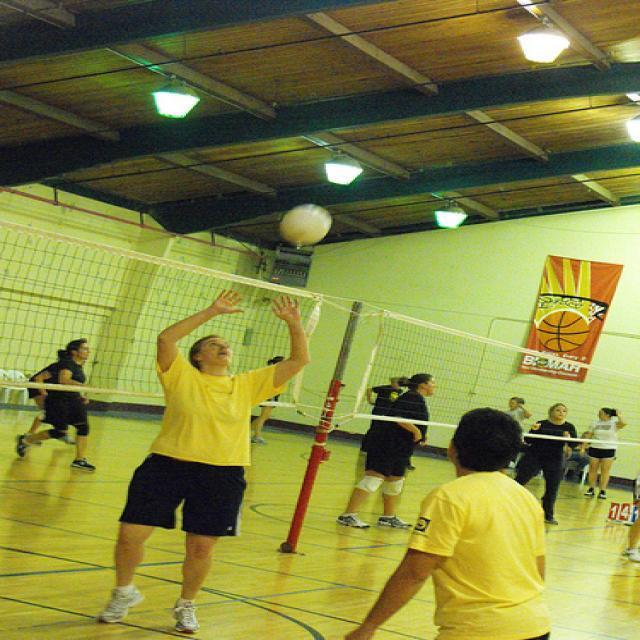volleyball: (280, 204, 330, 244)
